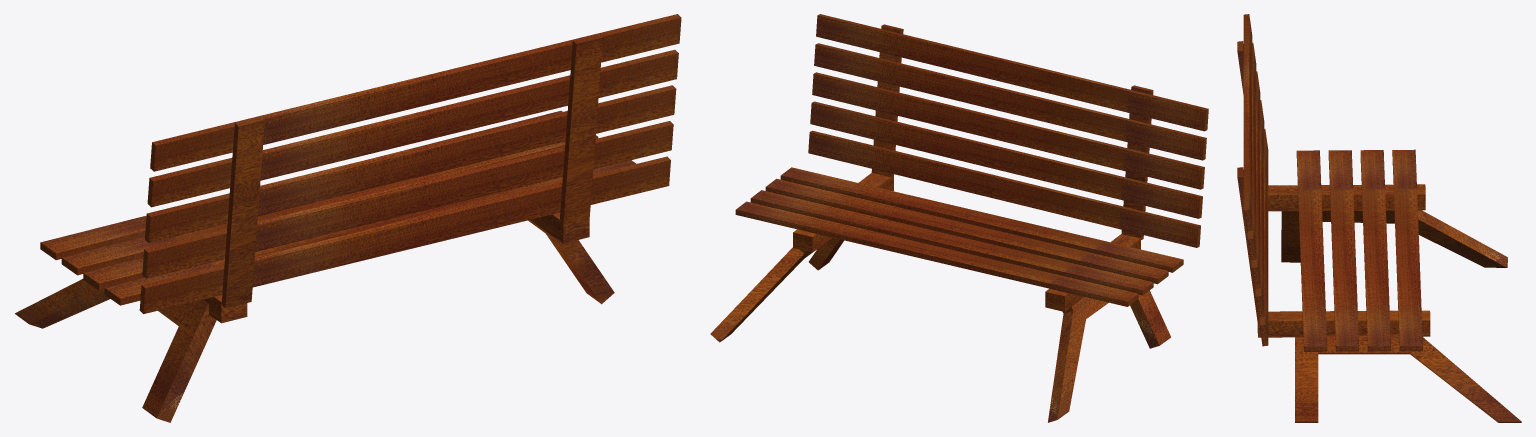
3 renders of one model, left to right at view 1: azimuth 30°, elevation 25°; view 2: azimuth 150°, elevation 25°; view 3: azimuth 270°, elevation 25°, orthographic. The views are drawn at different scales.
Visible parts, largest first — view 1: mesh1_mesh1-geometry, mesh13_mesh13-geometry, mesh8_mesh8-geometry, mesh7_mesh7-geometry, mesh11_mesh11-geometry, mesh3_mesh3-geometry, mesh4_mesh4-geometry; view 2: mesh1_mesh1-geometry, mesh13_mesh13-geometry, mesh11_mesh11-geometry, mesh3_mesh3-geometry, mesh4_mesh4-geometry, mesh8_mesh8-geometry, mesh7_mesh7-geometry; view 3: mesh1_mesh1-geometry, mesh11_mesh11-geometry, mesh13_mesh13-geometry, mesh3_mesh3-geometry, mesh4_mesh4-geometry, mesh7_mesh7-geometry.
Boxes of the visible parts, x1,y1,x2,y2 form: mesh1_mesh1-geometry: (40, 14, 681, 313); mesh13_mesh13-geometry: (15, 279, 216, 422); mesh8_mesh8-geometry: (221, 116, 264, 308); mesh7_mesh7-geometry: (559, 34, 602, 224); mesh11_mesh11-geometry: (528, 220, 614, 304); mesh3_mesh3-geometry: (530, 212, 589, 243); mesh4_mesh4-geometry: (203, 295, 247, 323); mesh1_mesh1-geometry: (735, 14, 1208, 306); mesh13_mesh13-geometry: (1048, 290, 1170, 422); mesh11_mesh11-geometry: (710, 237, 844, 342); mesh3_mesh3-geometry: (793, 173, 893, 252); mesh4_mesh4-geometry: (1045, 234, 1140, 311); mesh8_mesh8-geometry: (1121, 85, 1153, 239); mesh7_mesh7-geometry: (871, 24, 903, 177); mesh1_mesh1-geometry: (1243, 14, 1422, 351); mesh11_mesh11-geometry: (1295, 333, 1521, 422); mesh13_mesh13-geometry: (1281, 210, 1507, 267); mesh3_mesh3-geometry: (1257, 310, 1430, 337); mesh4_mesh4-geometry: (1268, 184, 1425, 211); mesh7_mesh7-geometry: (1237, 167, 1259, 323).
Bounding box in the file's own units: 0.7687 × 0.4357 × 0.4683.
